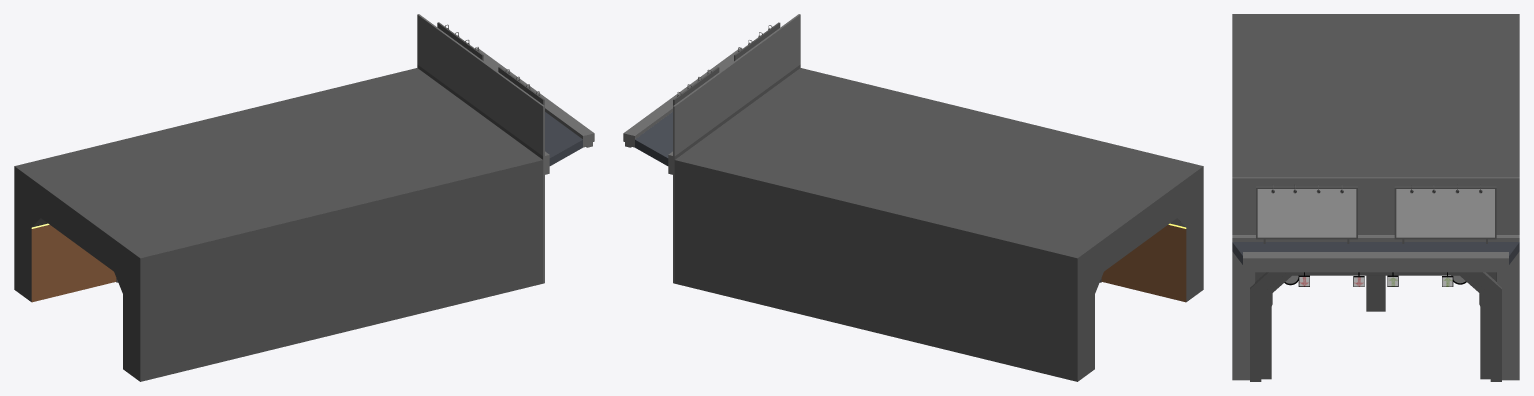
The model's file is SM_LongTunnelDetailed.fbx.
The picture shows the model from 3 angles, left to right: view 1: azimuth 30°, elevation 25°; view 2: azimuth 150°, elevation 25°; view 3: azimuth 270°, elevation 25°; orthographic projection. The views are drawn at different scales.
Visible parts, largest first — view 1: Cube.030; view 2: Cube.030; view 3: Cube.030, Cube.005, Cube.003, Cube.010.
Part boxes in pixels (x1,y1,x2,y2): Cube.030: (14,14,594,381); Cube.030: (623,14,1203,381); Cube.030: (1232,14,1519,381); Cube.005: (1394,184,1496,243); Cube.003: (1256,184,1357,243); Cube.010: (1366,275,1385,311).
Bounding box in the file's own units: 2121 × 785 × 1008.
